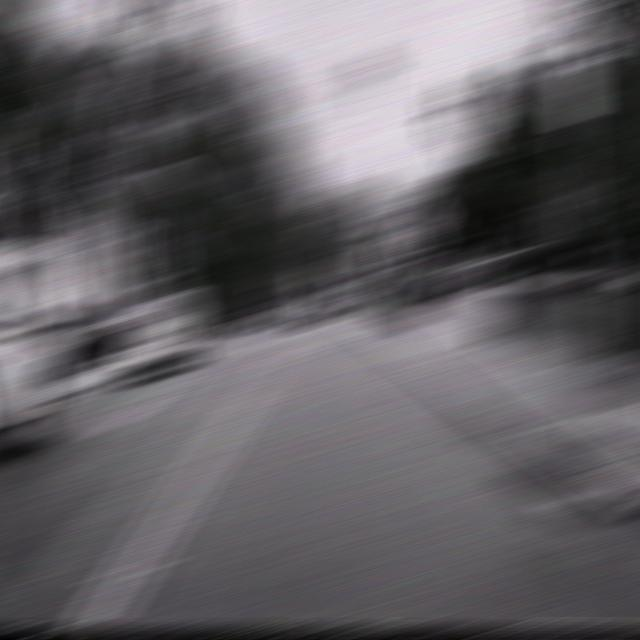pedestrianCrossing: (400, 204, 442, 246)
